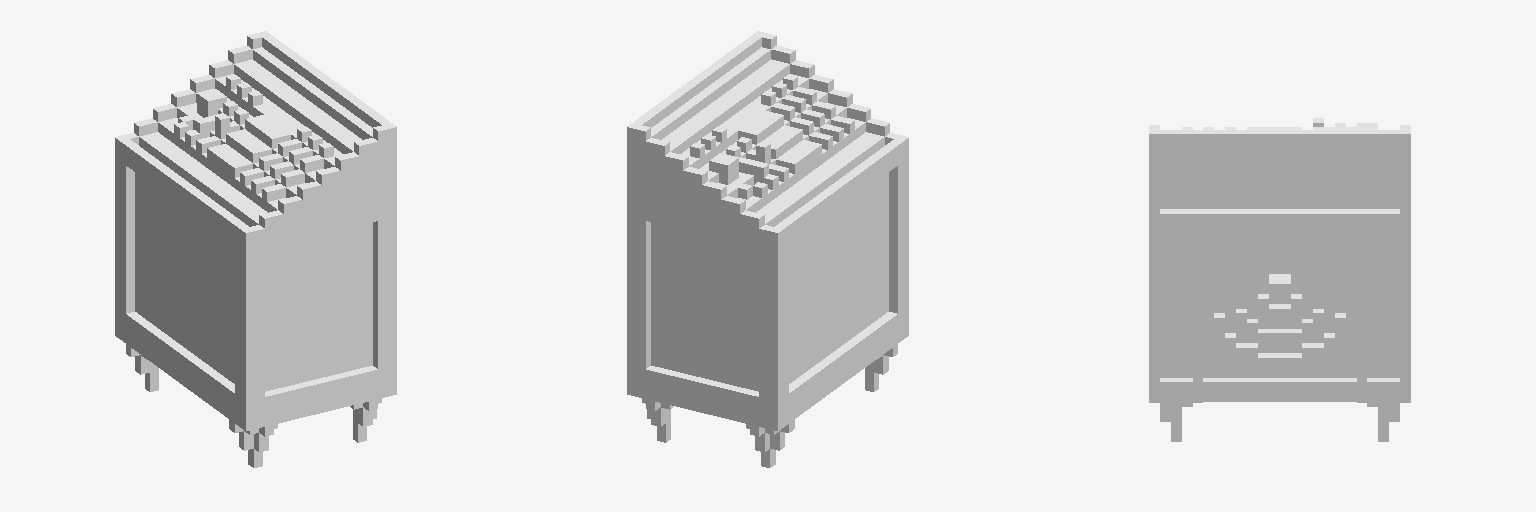
The model's file is char_amp.obj.
The picture shows the model from 3 angles: view 1: azimuth 30°, elevation 25°; view 2: azimuth 150°, elevation 25°; view 3: azimuth 270°, elevation 25°; orthographic projection.
Bounding box in the file's own units: 16 × 32 × 24.